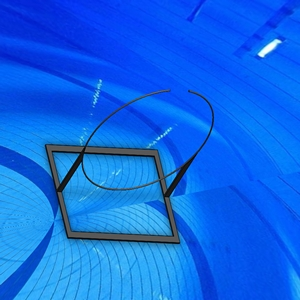circle: (45, 88, 215, 245)
